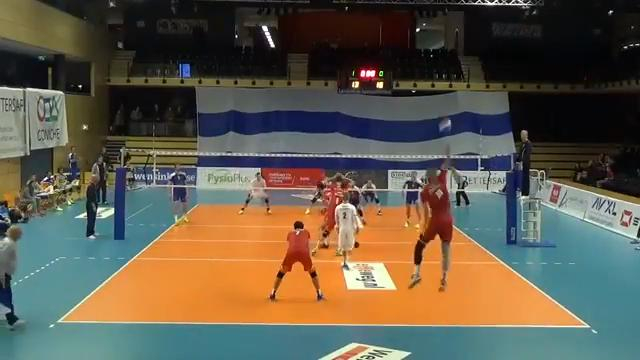Player: (269, 221, 323, 299), (312, 173, 344, 253), (334, 193, 362, 269), (239, 172, 270, 214), (169, 164, 187, 223), (403, 172, 422, 227), (305, 177, 327, 213), (361, 179, 381, 215), (348, 183, 365, 224)
Serve: (401, 145, 458, 295)
ball: (439, 118, 451, 131)
